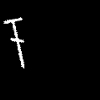double_crochet: (5, 18, 23, 67)
